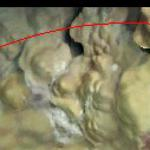alive: (2, 6, 143, 146)
